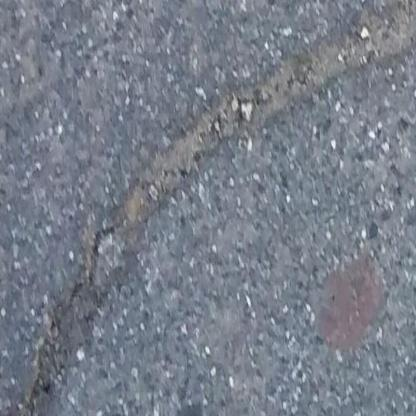Cracks: (0, 70, 187, 416), (122, 0, 416, 171)
